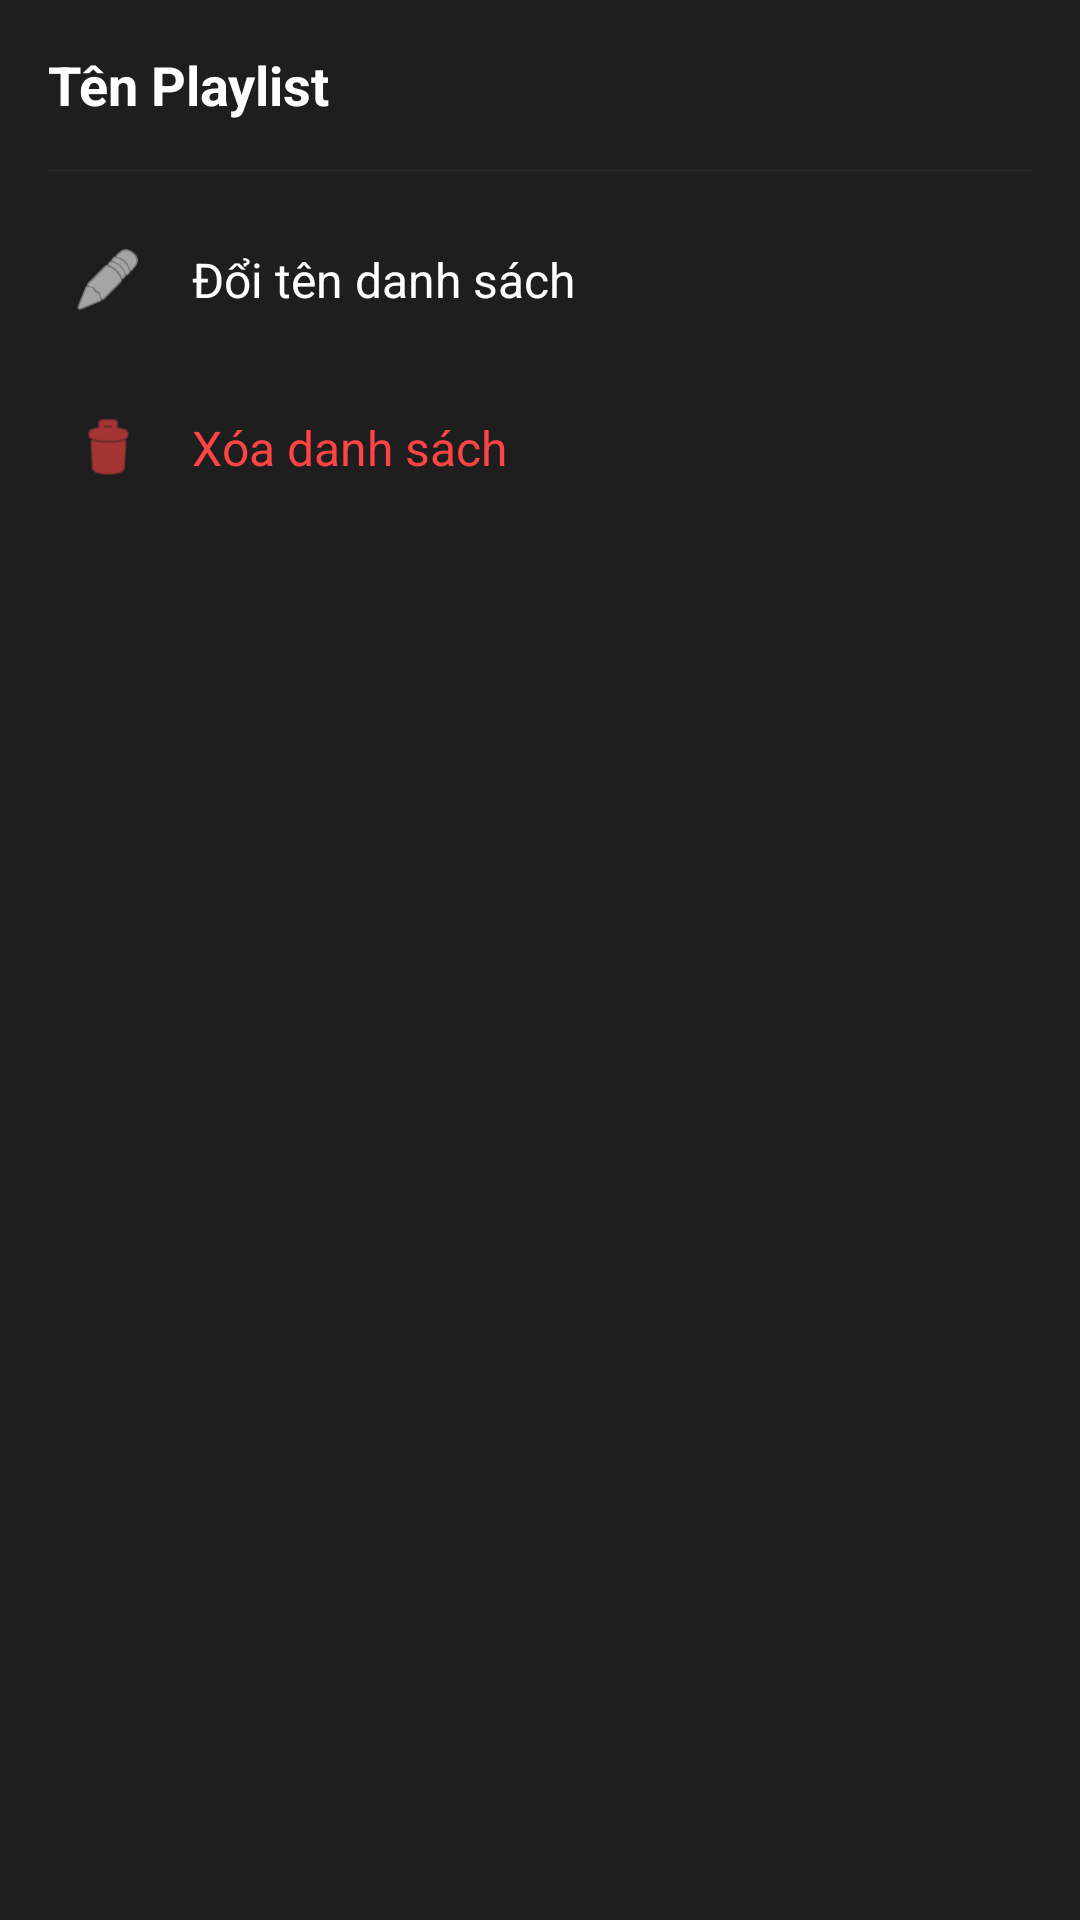

Named icons in this screenshot (1080px x 1920px) and their centers, (x=x, y=y):
delete: (x=108, y=447)
edit: (x=107, y=279)
